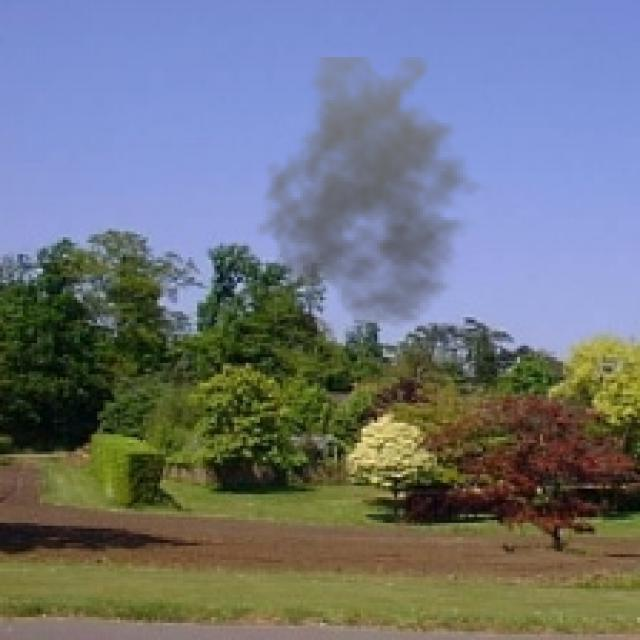smoke: (255, 57, 494, 329)
